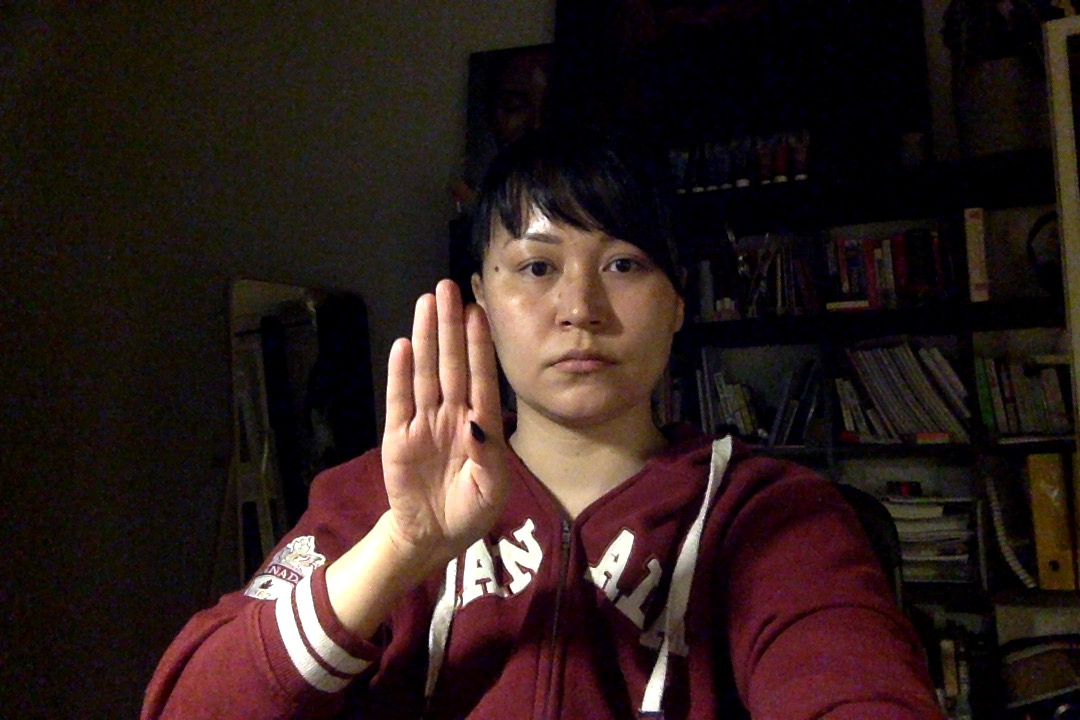b: (349, 264, 539, 573)
